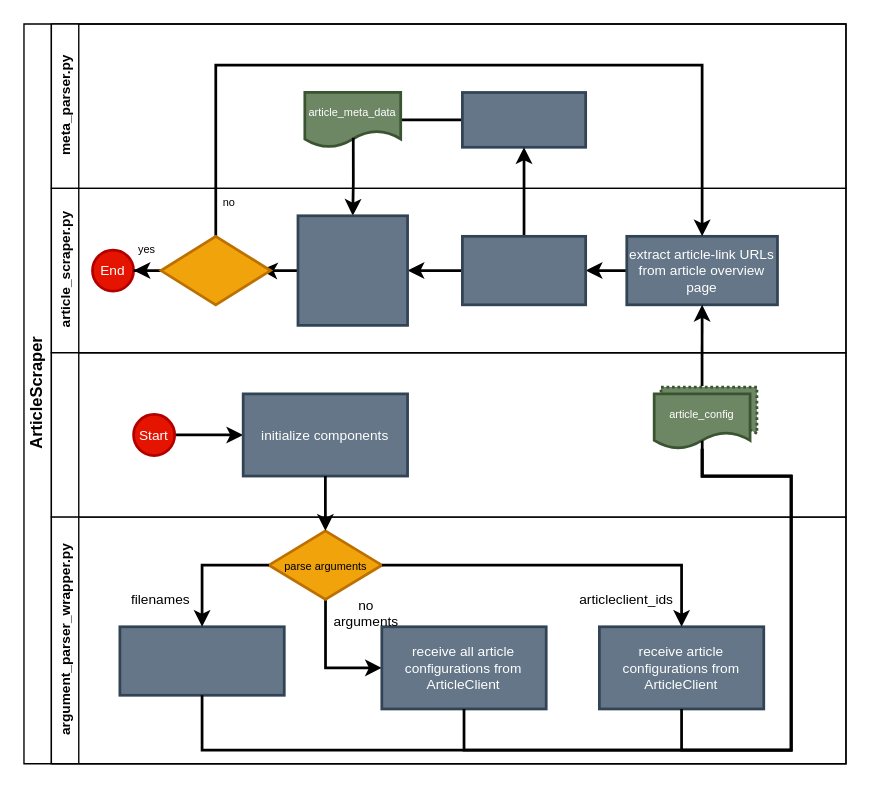
Some shapes in this 870 by 788 pixel diagram are drawn without their labels. Each missing label, with the box of its shape:
all article_configs scraped?: (159, 234, 271, 306)
main.py: (50, 351, 846, 517)
parse meta data: (460, 90, 586, 148)
receive article configurations from filesystem: (118, 625, 285, 696)
save article pages as textfile to FileClient and article_meta_data to MetaClient: (296, 214, 408, 326)
scrape article pages: (460, 234, 586, 306)
